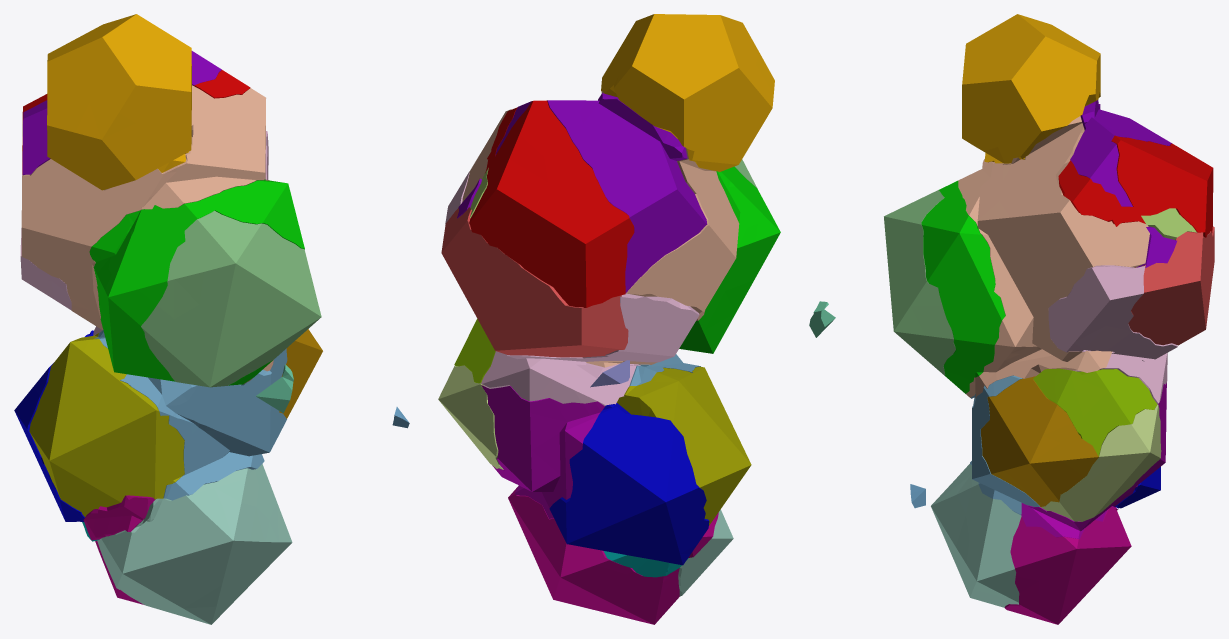
The model's file is fractured_45_30pcs.glb.
3 views of the same model, side by side, from view 1: azimuth 30°, elevation 25°; view 2: azimuth 150°, elevation 25°; view 3: azimuth 270°, elevation 25° (orthographic). The views are drawn at different scales.
Visible parts, largest first — view 1: piece_3.obj, piece_0.obj, piece_7.obj, piece_4.obj, piece_11.obj, piece_8.obj, piece_2.obj, piece_16.obj, piece_19.obj, piece_10.obj, piece_17.obj, piece_6.obj (+2 smaller); view 2: piece_9.obj, piece_0.obj, piece_10.obj, piece_16.obj, piece_1.obj, piece_6.obj, piece_15.obj, piece_12.obj, piece_11.obj, piece_7.obj, piece_8.obj, piece_5.obj (+5 smaller); view 3: piece_7.obj, piece_0.obj, piece_8.obj, piece_17.obj, piece_9.obj, piece_6.obj, piece_15.obj, piece_4.obj, piece_3.obj, piece_1.obj, piece_5.obj, piece_14.obj (+6 smaller).
Part boxes in pixels (x1,y1,x2,y2): piece_3.obj: (141, 210, 321, 387); piece_0.obj: (47, 14, 191, 190); piece_7.obj: (21, 85, 273, 383); piece_4.obj: (97, 464, 292, 624); piece_11.obj: (29, 333, 184, 516); piece_8.obj: (89, 179, 304, 385); piece_2.obj: (94, 330, 287, 500); piece_16.obj: (22, 51, 221, 175); piece_19.obj: (83, 495, 155, 540); piece_10.obj: (14, 330, 93, 521); piece_17.obj: (279, 329, 322, 418); piece_6.obj: (20, 131, 268, 335); piece_9.obj: (469, 100, 634, 307); piece_0.obj: (601, 14, 774, 171); piece_10.obj: (549, 403, 709, 565); piece_16.obj: (495, 93, 707, 292); piece_1.obj: (441, 207, 628, 357); piece_6.obj: (445, 172, 699, 405); piece_15.obj: (508, 487, 679, 624); piece_12.obj: (481, 385, 604, 518); piece_11.obj: (617, 366, 751, 525); piece_7.obj: (462, 91, 739, 367); piece_8.obj: (679, 166, 780, 353); piece_5.obj: (438, 365, 503, 469); piece_7.obj: (958, 116, 1149, 398); piece_0.obj: (962, 14, 1100, 163); piece_8.obj: (921, 180, 1005, 393); piece_17.obj: (981, 376, 1099, 506); piece_9.obj: (1058, 135, 1213, 237); piece_6.obj: (1048, 265, 1177, 403); piece_15.obj: (1004, 506, 1131, 624); piece_4.obj: (931, 464, 1021, 607); piece_3.obj: (884, 190, 955, 375); piece_1.obj: (1128, 226, 1214, 345); piece_5.obj: (1040, 404, 1161, 521); piece_14.obj: (1033, 368, 1157, 456).
Bounding box in the file's own units: 0.5389 × 1 × 0.6732.
